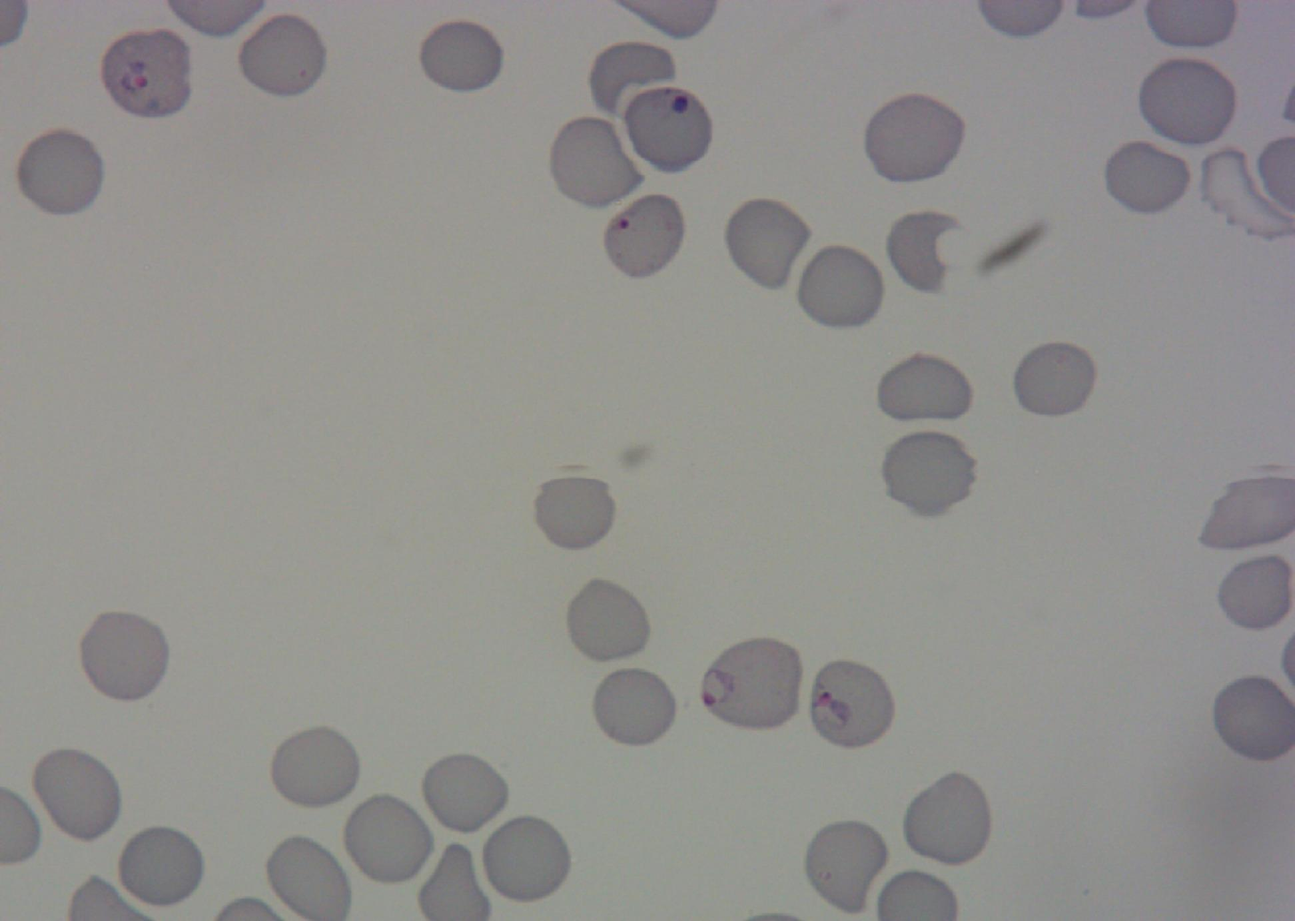Infected: (696, 635, 805, 732), (97, 25, 196, 122), (804, 655, 897, 752)
Uninfected: (547, 111, 646, 211), (859, 93, 967, 184), (340, 790, 438, 888), (75, 606, 173, 704), (721, 193, 817, 292), (28, 745, 123, 845), (901, 770, 996, 870), (801, 816, 895, 916), (1135, 56, 1236, 149), (1201, 145, 1294, 244), (478, 812, 574, 906), (11, 127, 107, 220), (233, 11, 330, 103), (793, 241, 887, 334), (416, 749, 512, 838), (113, 822, 208, 911), (882, 430, 977, 515), (874, 352, 976, 430), (1098, 136, 1194, 218), (587, 38, 677, 124), (262, 835, 352, 920), (414, 13, 507, 95), (529, 470, 620, 553), (883, 208, 965, 296), (272, 725, 360, 807), (589, 669, 678, 747), (568, 576, 649, 661), (1213, 550, 1294, 633), (1015, 342, 1096, 411)
